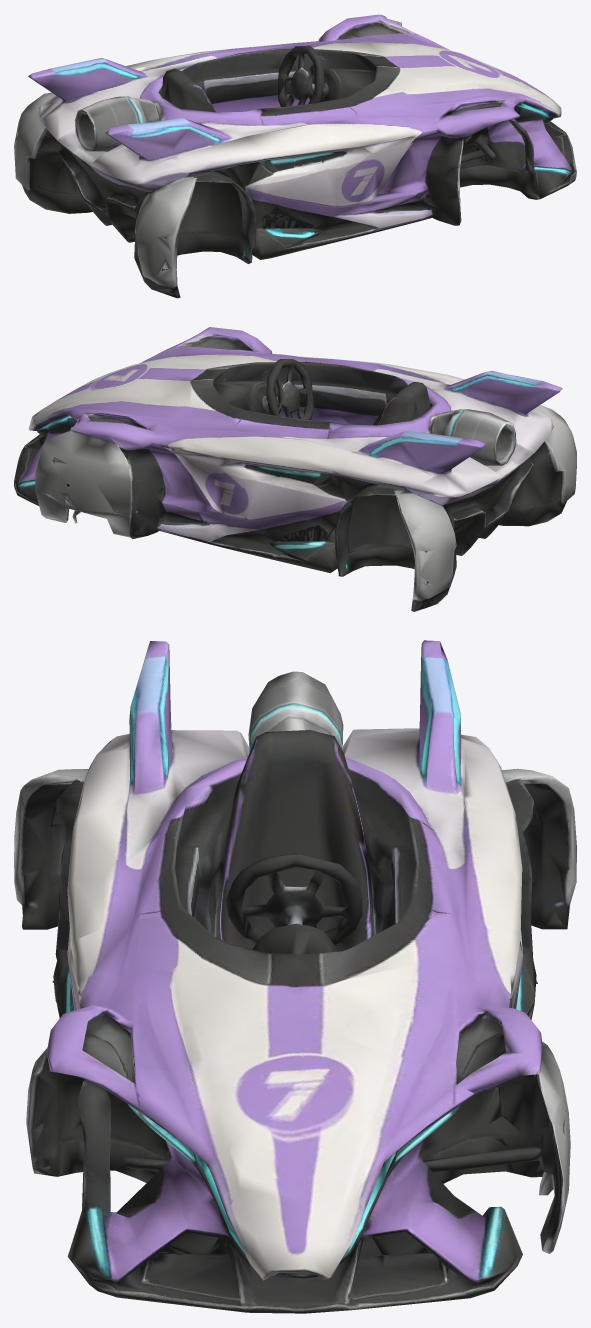
File: body.glb
3 renders of one model, top to bottom at view 1: azimuth 30°, elevation 25°; view 2: azimuth 150°, elevation 25°; view 3: azimuth 270°, elevation 25°, orthographic. The views are drawn at different scales.
Visible parts, largest first — view 1: tripo_node_f0a80f14-bfd0-41fe-a570-6bdd3024f9ba; view 2: tripo_node_f0a80f14-bfd0-41fe-a570-6bdd3024f9ba; view 3: tripo_node_f0a80f14-bfd0-41fe-a570-6bdd3024f9ba.
Part boxes in pixels (left/top/right/bottom): tripo_node_f0a80f14-bfd0-41fe-a570-6bdd3024f9ba: left=14, top=14, right=576, bottom=298; tripo_node_f0a80f14-bfd0-41fe-a570-6bdd3024f9ba: left=14, top=327, right=576, bottom=611; tripo_node_f0a80f14-bfd0-41fe-a570-6bdd3024f9ba: left=14, top=640, right=576, bottom=1313.
Bounding box in the file's own units: 0.9997 × 0.2947 × 0.5607.
Materials: 1 (1 with a texture image).
